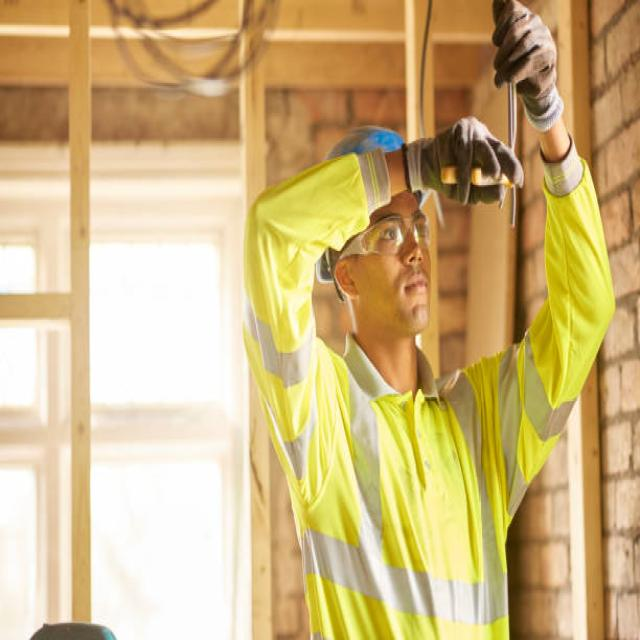gloves: (399, 113, 523, 207), (490, 0, 562, 132)
